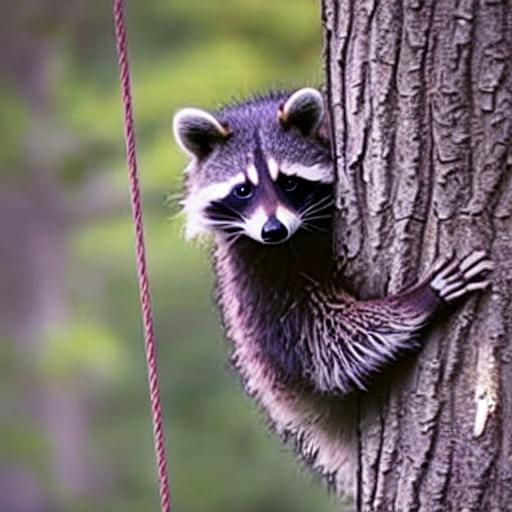raccoon: (163, 73, 391, 477)
